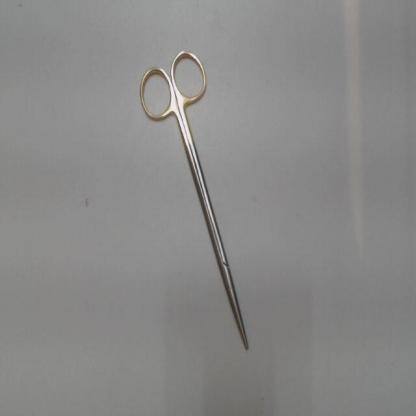7 Metzenbaum Scissors: (137, 44, 250, 348)
